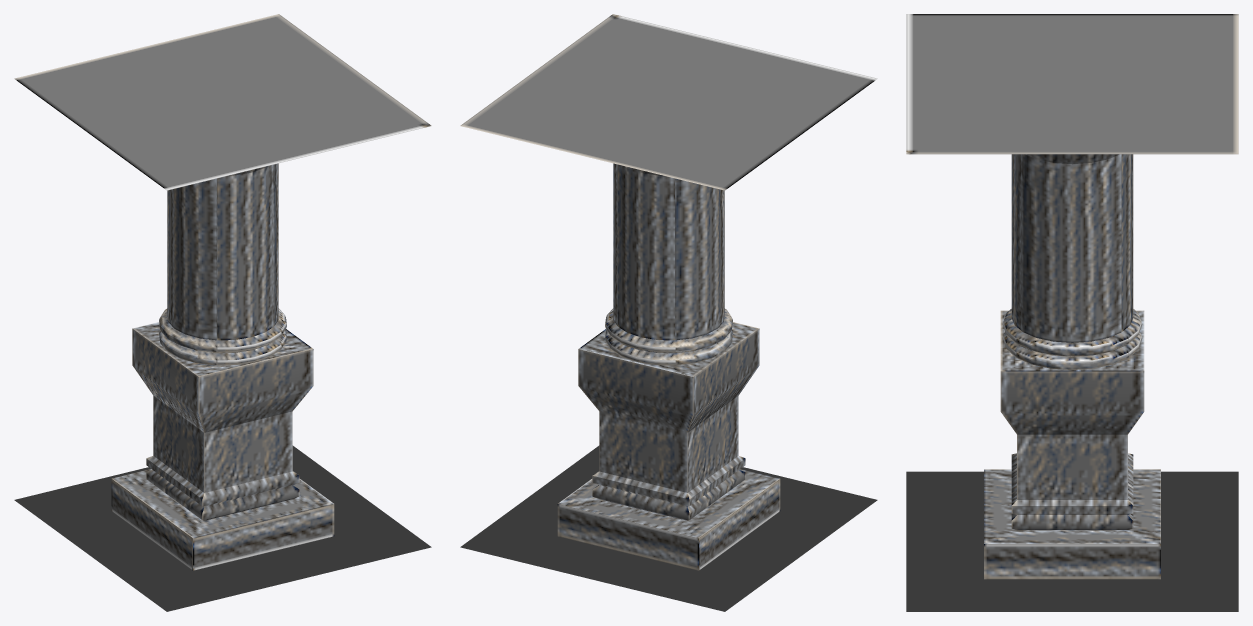
The model's file is Pillar.obj.glb.
The picture shows the model from 3 angles, left to right: view 1: azimuth 30°, elevation 25°; view 2: azimuth 150°, elevation 25°; view 3: azimuth 270°, elevation 25°; orthographic projection. The views are drawn at different scales.
Parts seen in each view (by area): view 1: mesh_id5, mesh_id6, mesh_id7; view 2: mesh_id5, mesh_id6, mesh_id7; view 3: mesh_id5, mesh_id6, mesh_id7.
Boxes of the visible parts, x1,y1,x2,y2 form: mesh_id5: [14, 14, 431, 365]; mesh_id6: [111, 322, 334, 570]; mesh_id7: [14, 445, 431, 611]; mesh_id5: [460, 14, 877, 365]; mesh_id6: [557, 322, 780, 570]; mesh_id7: [460, 445, 877, 611]; mesh_id5: [906, 14, 1238, 369]; mesh_id6: [984, 310, 1160, 579]; mesh_id7: [906, 471, 1238, 611].
Size of the model in its own units: 0.337 by 0.512 by 0.337.
3 materials, 3 textured.
